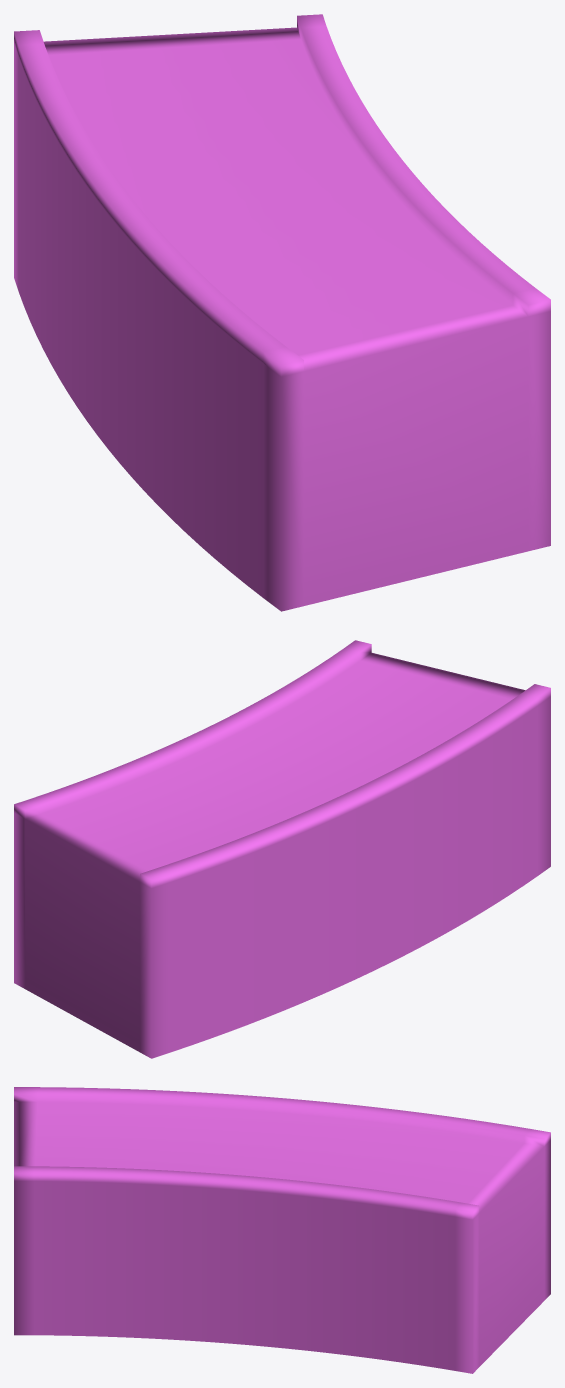
3 views of the same model, one above another, from view 1: azimuth 30°, elevation 25°; view 2: azimuth 150°, elevation 25°; view 3: azimuth 270°, elevation 25° (orthographic). The views are drawn at different scales.
Parts seen in each view (by area): view 1: Mesh; view 2: Mesh; view 3: Mesh.
Part boxes in pixels (x1,y1,x2,y2): Mesh: (14,14,550,611); Mesh: (14,640,550,1058); Mesh: (14,1087,550,1373).
Bounding box in the file's own units: 695 × 419 × 1261.
